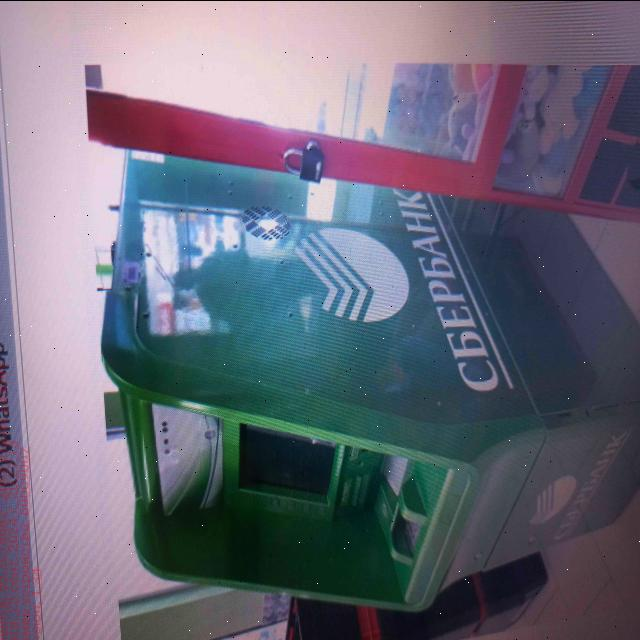bank: (95, 153, 640, 614)
